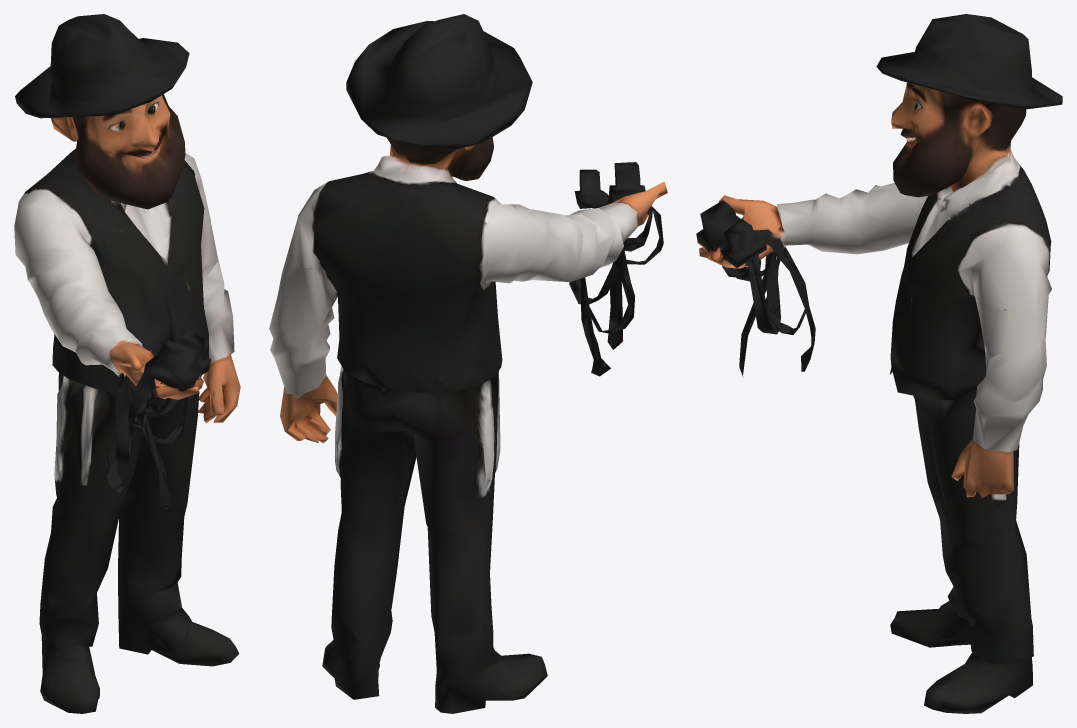
File: deco_chabad.glb
3 views of the same model, side by side, from view 1: azimuth 30°, elevation 25°; view 2: azimuth 150°, elevation 25°; view 3: azimuth 270°, elevation 25° (orthographic). The views are drawn at different scales.
Visible parts, largest first — view 1: tripo_node_6f23d795-6876-4911-bf72-2fd4475db315; view 2: tripo_node_6f23d795-6876-4911-bf72-2fd4475db315; view 3: tripo_node_6f23d795-6876-4911-bf72-2fd4475db315.
Boxes of the visible parts, x1,y1,x2,y2 form: tripo_node_6f23d795-6876-4911-bf72-2fd4475db315: (14,14,240,713); tripo_node_6f23d795-6876-4911-bf72-2fd4475db315: (269,14,667,713); tripo_node_6f23d795-6876-4911-bf72-2fd4475db315: (696,14,1062,713).
Size of the model in its own units: 0.7109 by 1.8 by 0.9324.
Materials: 1 (1 with a texture image).
